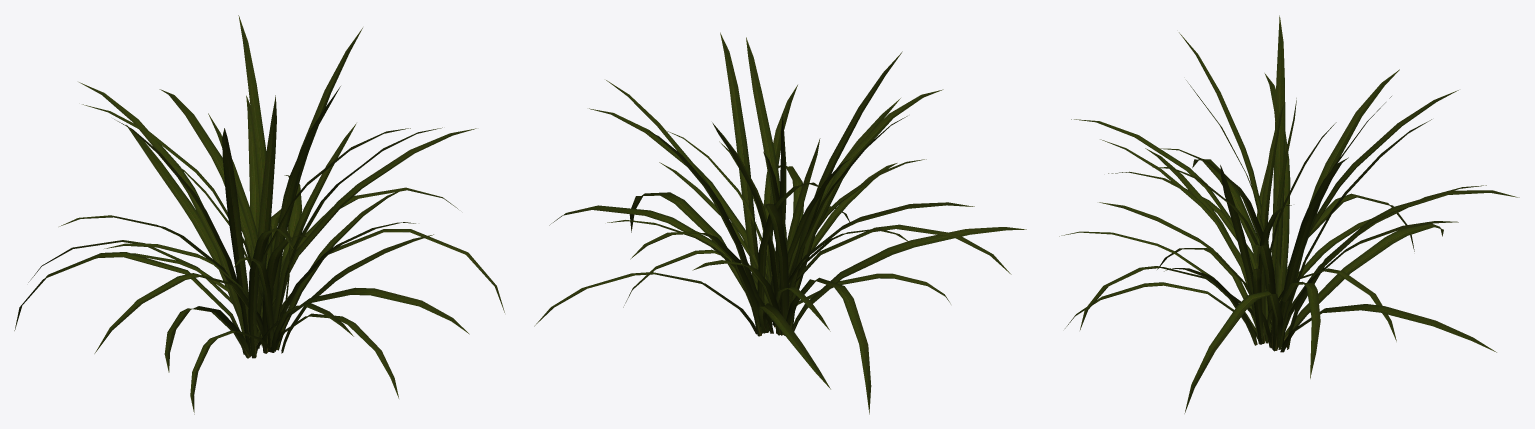
The model's file is grass.obj.
3 views of the same model, side by side, from view 1: azimuth 30°, elevation 25°; view 2: azimuth 150°, elevation 25°; view 3: azimuth 270°, elevation 25° (orthographic). The views are drawn at different scales.
Parts seen in each view (by area): view 1: grass:grass_01; view 2: grass:grass_01; view 3: grass:grass_01.
Boxes of the visible parts, x1=… form: grass:grass_01: x1=14, y1=15, x2=504, y2=414; grass:grass_01: x1=534, y1=32, x2=1026, y2=414; grass:grass_01: x1=1059, y1=15, x2=1519, y2=413.
Size of the model in its own units: 6.82 by 4.47 by 6.58.
1 material, 1 textured.
